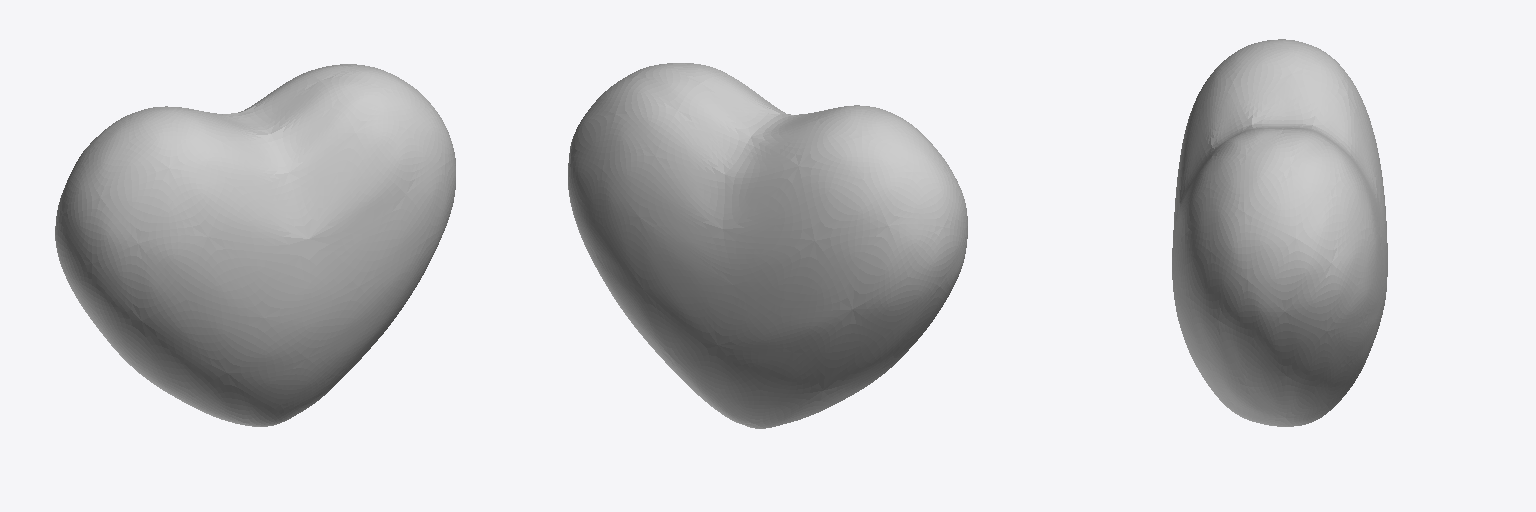
The model's file is love_heart_new.obj.
The picture shows the model from 3 angles: view 1: azimuth 30°, elevation 25°; view 2: azimuth 150°, elevation 25°; view 3: azimuth 270°, elevation 25°; orthographic projection.
Parts seen in each view (by area): view 1: Love; view 2: Love; view 3: Love.
Boxes of the visible parts, box(x1,y1,x2,y2) form: Love: box(55, 64, 455, 426); Love: box(568, 63, 967, 428); Love: box(1172, 39, 1387, 426).
Size of the model in its own units: 4.43 by 3.67 by 2.2.